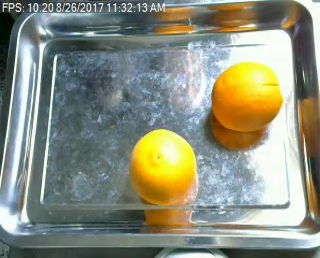Orange: (128, 127, 195, 206), (212, 62, 284, 132)
